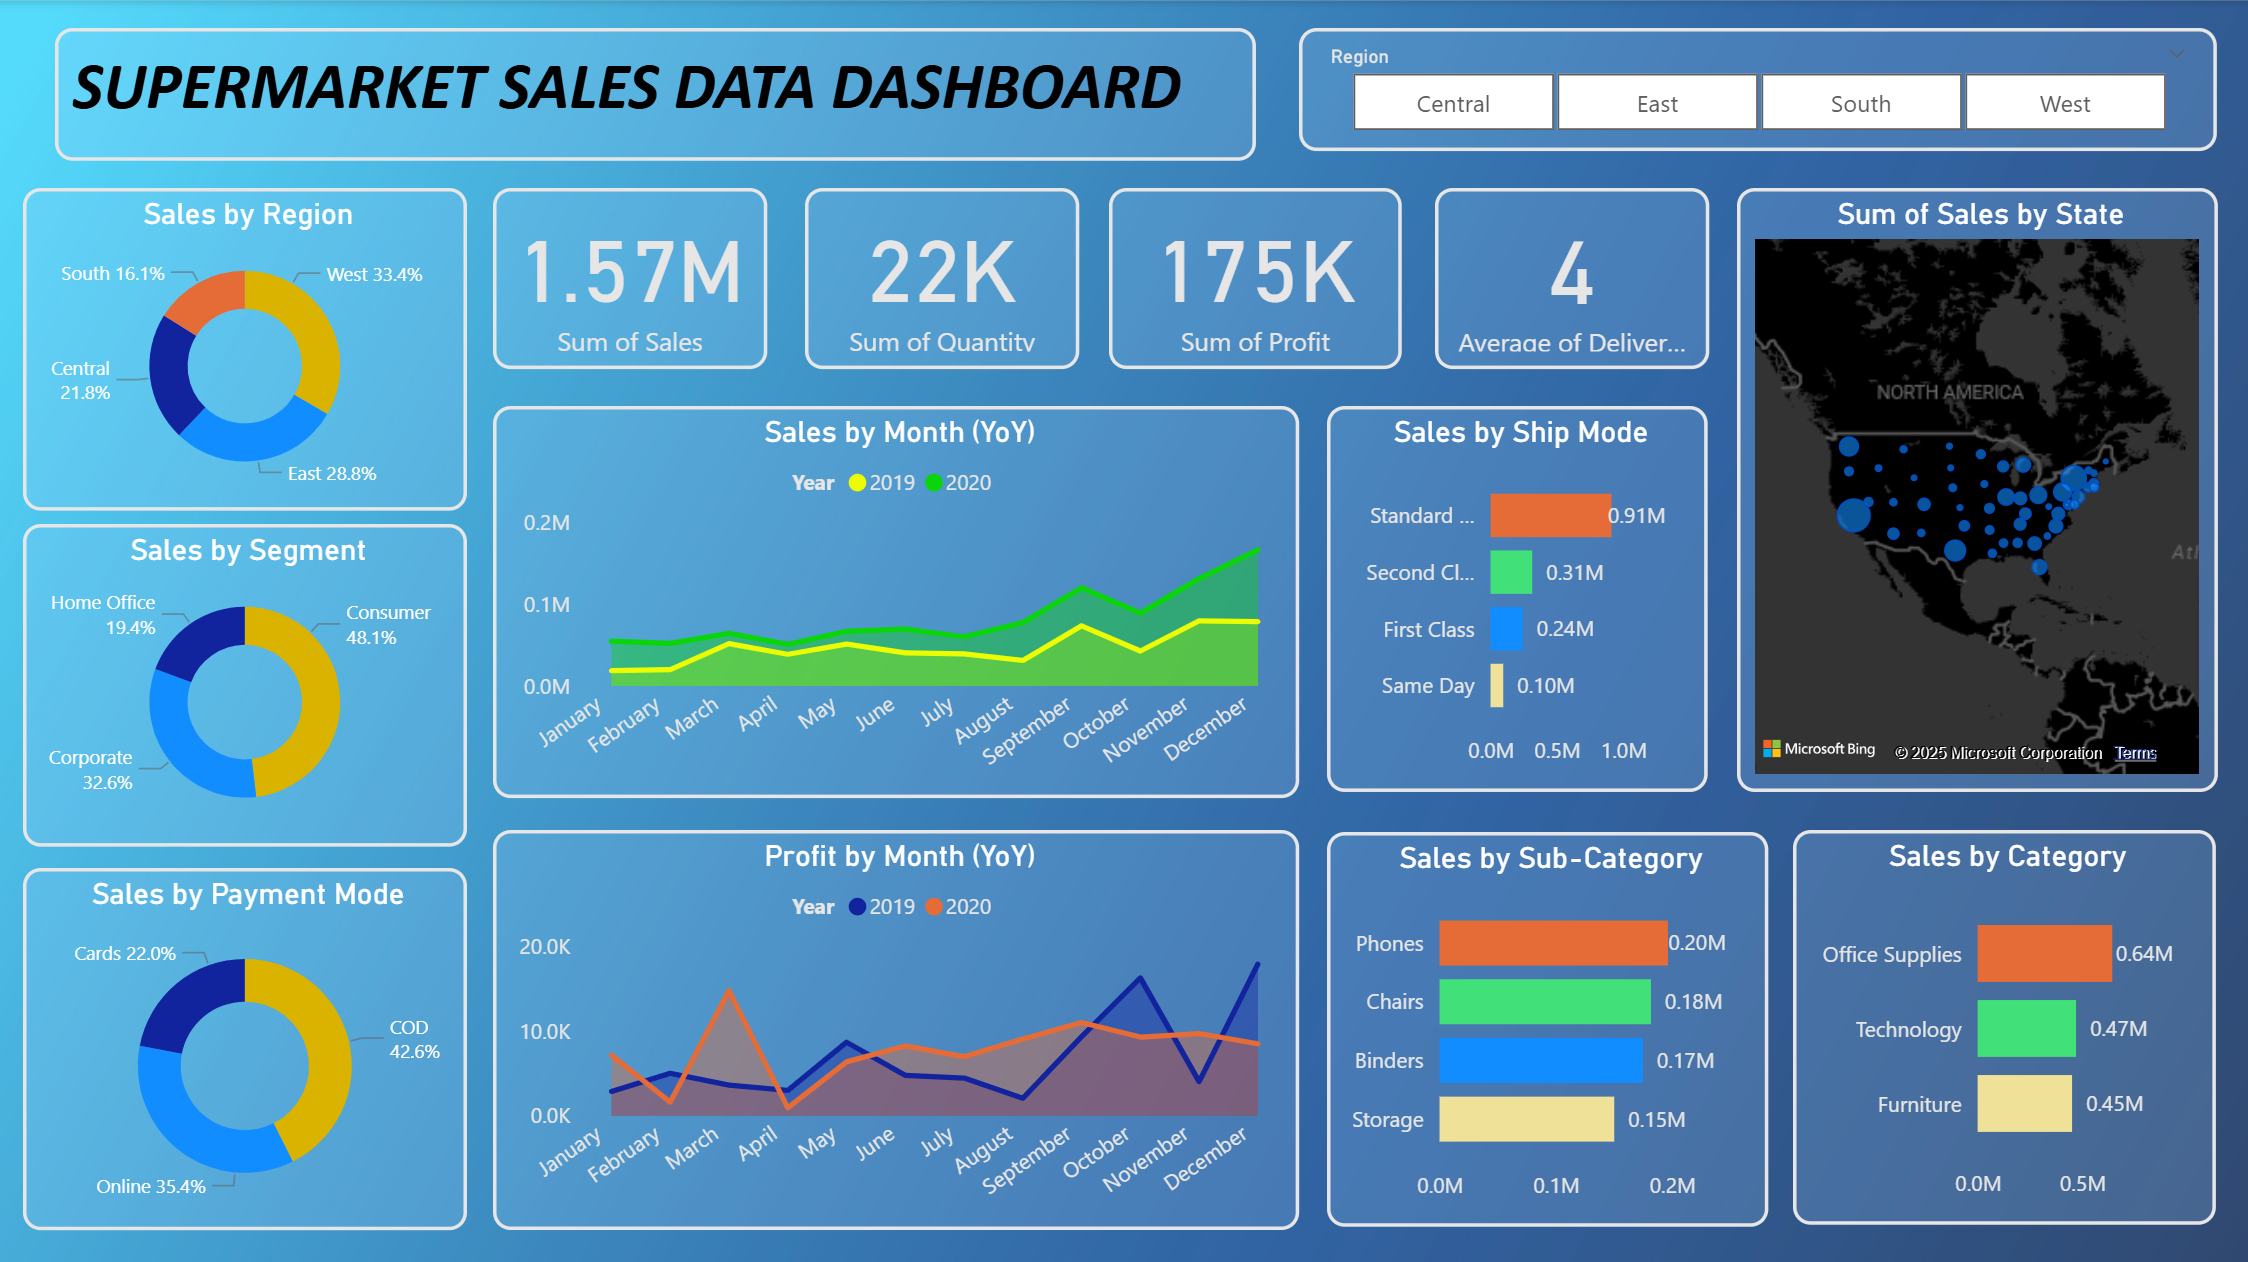

Layout of this report page (visuals, bound fields, positions):
{"tool":"powerbi","page":{"name":"Page 1","canvas":[1280,720],"ordinal":0},"visuals":[{"type":"barChart","title":"Sales by Category","fields":{"Y":["Sum(SuperStore_Sales_Dataset.Sales)"],"Category":["SuperStore_Sales_Dataset.Category"]},"box":[1019.8,471.6,240.4,224.6],"z":0},{"type":"barChart","title":"Sales by Sub-Category","fields":{"Y":["Sum(SuperStore_Sales_Dataset.Sales)"],"Category":["SuperStore_Sales_Dataset.Sub-Category"]},"box":[755.6,472.9,251,224.6],"z":1000},{"type":"barChart","title":"Sales by Ship Mode","fields":{"Y":["Sum(SuperStore_Sales_Dataset.Sales)"],"Category":["SuperStore_Sales_Dataset.Ship Mode"]},"box":[755.6,231.2,216.6,219.3],"z":2000},{"type":"areaChart","title":"Sales by Month (YoY)","fields":{"Category":["SuperStore_Sales_Dataset.Order Date.Variation.Date Hierarchy.Month"],"Y":["Sum(SuperStore_Sales_Dataset.Sales)"],"Series":["SuperStore_Sales_Dataset.Order Date.Variation.Date Hierarchy.Year"]},"box":[281.4,231.2,458.4,223.2],"z":3000},{"type":"areaChart","title":"Profit by Month (YoY)","fields":{"Y":["Sum(SuperStore_Sales_Dataset.Profit)"],"Category":["SuperStore_Sales_Dataset.Order Date.Variation.Date Hierarchy.Month"],"Series":["SuperStore_Sales_Dataset.Order Date.Variation.Date Hierarchy.Year"]},"box":[280.9,472,458.4,227.5],"z":4000},{"type":"donutChart","title":"Sales by Segment","fields":{"Y":["Sum(SuperStore_Sales_Dataset.Sales)"],"Category":["SuperStore_Sales_Dataset.Segment"]},"box":[13.2,298.5,252.3,183.6],"z":5000},{"type":"map","fields":{"Category":["SuperStore_Sales_Dataset.State"],"Size":["Sum(SuperStore_Sales_Dataset.Sales)"]},"box":[988.1,107,273.4,343.4],"z":6000},{"type":"slicer","fields":{"Values":["SuperStore_Sales_Dataset.Region"]},"box":[739.7,15.9,521.8,70],"z":7000},{"type":"donutChart","title":"Sales by Payment Mode","fields":{"Y":["Sum(SuperStore_Sales_Dataset.Sales)"],"Category":["SuperStore_Sales_Dataset.Payment Mode"]},"box":[13.2,494,252.3,206.1],"z":8000},{"type":"card","fields":{"Values":["Sum(SuperStore_Sales_Dataset.Sales)"]},"box":[281.4,107,155.9,103],"z":9000},{"type":"card","fields":{"Values":["Sum(SuperStore_Sales_Dataset.Quantity)"]},"box":[458.4,107,155.9,103],"z":10000},{"type":"card","fields":{"Values":["Sum(SuperStore_Sales_Dataset.Profit)"]},"box":[631.4,107,166.4,103],"z":11000},{"type":"card","fields":{"Values":["Avg(SuperStore_Sales_Dataset.DeliveryTime)"]},"box":[816.3,107,155.9,103],"z":12000},{"type":"donutChart","title":"Sales by Region","fields":{"Y":["Sum(SuperStore_Sales_Dataset.Sales)"],"Category":["SuperStore_Sales_Dataset.Region"]},"box":[13.2,107,252.3,183.6],"z":13000},{"type":"textbox","box":[31.7,15.9,682.9,75.3],"z":14000}]}

Visuals, with their boxes in screenshot pixels (x1, y1, x2, y2), scaled from the page's 1280x720 canvas onto the 2248x1262 screenshot:
"Sales by Category" barChart: (x1=1791, y1=827, x2=2213, y2=1220)
"Sales by Sub-Category" barChart: (x1=1327, y1=829, x2=1768, y2=1223)
"Sales by Ship Mode" barChart: (x1=1327, y1=405, x2=1707, y2=790)
"Sales by Month (YoY)" areaChart: (x1=494, y1=405, x2=1299, y2=796)
"Profit by Month (YoY)" areaChart: (x1=493, y1=827, x2=1298, y2=1226)
"Sales by Segment" donutChart: (x1=23, y1=523, x2=466, y2=845)
map - SuperStore_Sales_Dataset.State x Sum(SuperStore_Sales_Dataset.Sales): (x1=1735, y1=188, x2=2216, y2=789)
slicer - SuperStore_Sales_Dataset.Region: (x1=1299, y1=28, x2=2216, y2=151)
"Sales by Payment Mode" donutChart: (x1=23, y1=866, x2=466, y2=1227)
card - Sum(SuperStore_Sales_Dataset.Sales): (x1=494, y1=188, x2=768, y2=368)
card - Sum(SuperStore_Sales_Dataset.Quantity): (x1=805, y1=188, x2=1079, y2=368)
card - Sum(SuperStore_Sales_Dataset.Profit): (x1=1109, y1=188, x2=1401, y2=368)
card - Avg(SuperStore_Sales_Dataset.DeliveryTime): (x1=1434, y1=188, x2=1707, y2=368)
"Sales by Region" donutChart: (x1=23, y1=188, x2=466, y2=509)
textbox: (x1=56, y1=28, x2=1255, y2=160)
